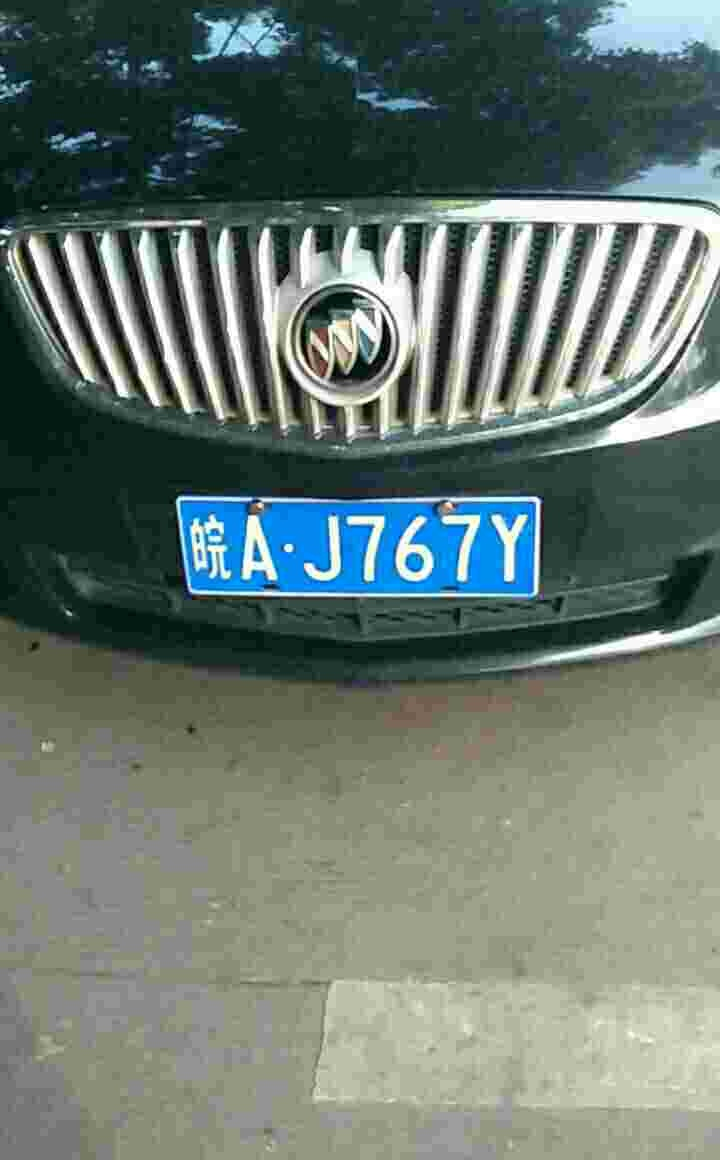license_plate: (174, 499, 553, 588)
